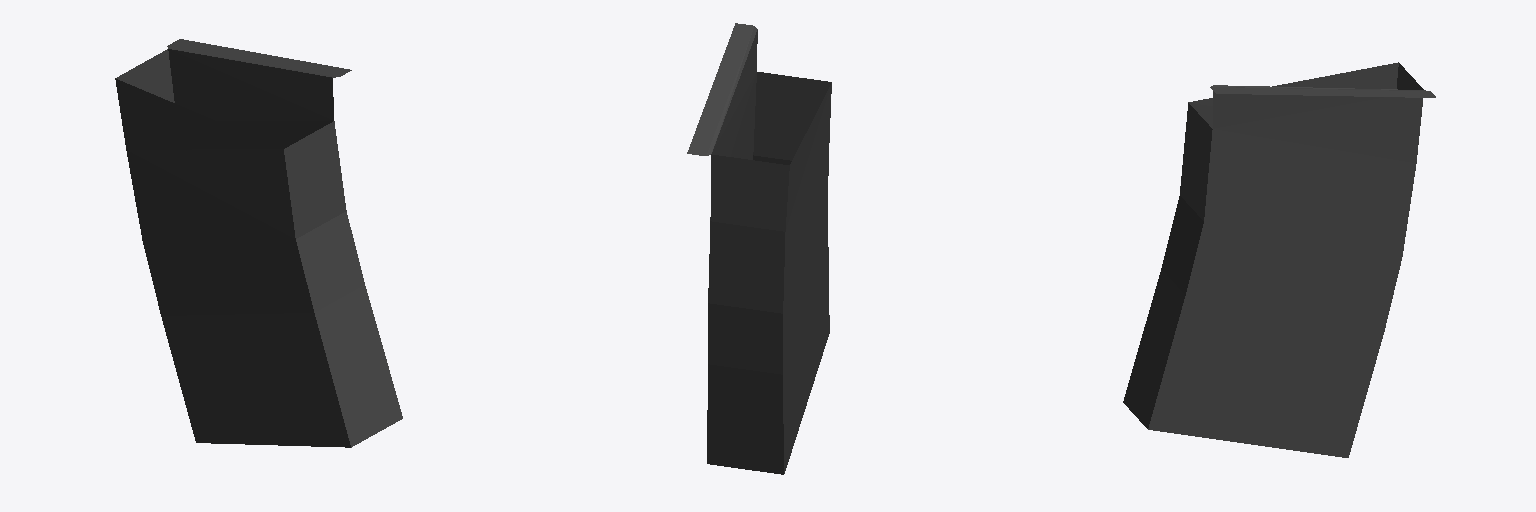
Rendered from M4Magazine.obj.
3 views of the same model, side by side, from view 1: azimuth 30°, elevation 25°; view 2: azimuth 150°, elevation 25°; view 3: azimuth 270°, elevation 25° (orthographic).
Visible parts, largest first — view 1: M4_Magazine_Mesh_M4MB.001; view 2: M4_Magazine_Mesh_M4MB.001; view 3: M4_Magazine_Mesh_M4MB.001.
Boxes of the visible parts, box(x1,y1,x2,y2) form: M4_Magazine_Mesh_M4MB.001: box(115, 39, 402, 447); M4_Magazine_Mesh_M4MB.001: box(687, 23, 831, 474); M4_Magazine_Mesh_M4MB.001: box(1123, 62, 1435, 457).
Bounding box in the file's own units: 0.0446 × 0.1014 × 0.0745.